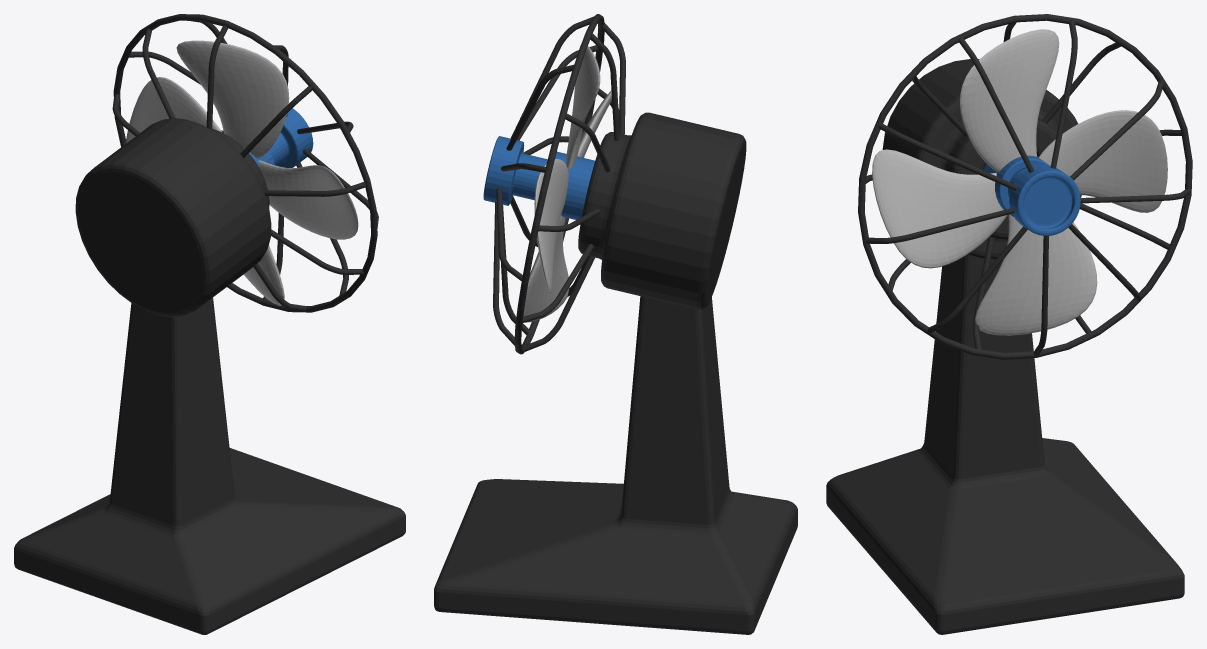
The model's file is Fan.glb.
3 views of the same model, side by side, from view 1: azimuth 30°, elevation 25°; view 2: azimuth 150°, elevation 25°; view 3: azimuth 270°, elevation 25° (orthographic). The views are drawn at different scales.
Parts seen in each view (by area): view 1: Fan Stand, Fan, Fan Blades; view 2: Fan Stand, Fan, Fan Blades; view 3: Fan Stand, Fan Blades, Fan.
Part boxes in pixels (bbox=[...]): Fan Stand: bbox=[14, 297, 405, 634]; Fan: bbox=[75, 14, 378, 316]; Fan Blades: bbox=[125, 40, 358, 305]; Fan Stand: bbox=[434, 296, 797, 634]; Fan: bbox=[483, 14, 746, 354]; Fan Blades: bbox=[523, 45, 611, 322]; Fan Stand: bbox=[826, 254, 1184, 634]; Fan Blades: bbox=[872, 29, 1167, 335]; Fan: bbox=[858, 14, 1192, 359].
Bounding box in the file's own units: 0.2601 × 0.395 × 0.2395.
